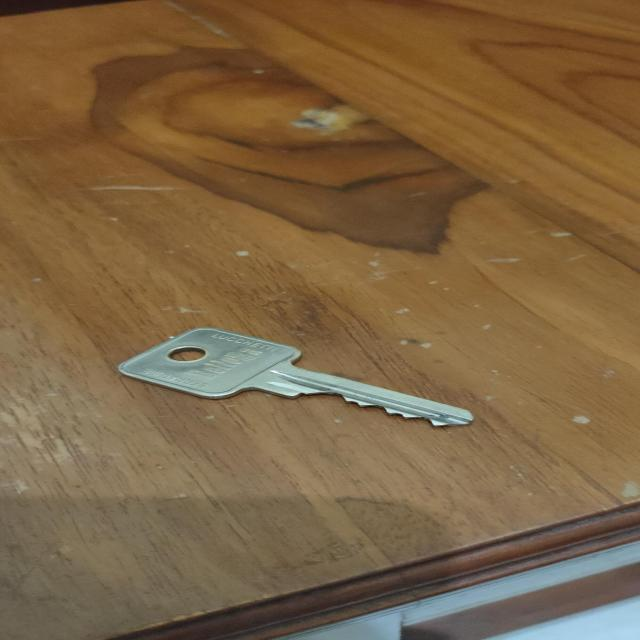kunci_kos: (106, 316, 484, 436)
